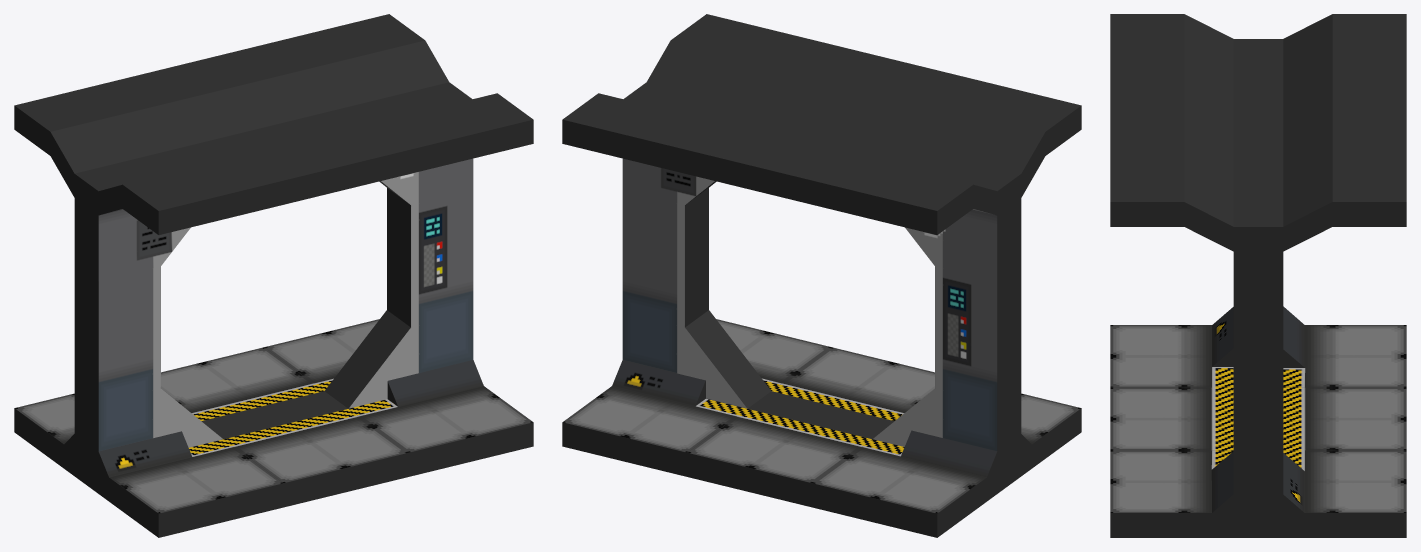
Rendered from ShipWallDoor.obj.
3 views of the same model, side by side, from view 1: azimuth 30°, elevation 25°; view 2: azimuth 150°, elevation 25°; view 3: azimuth 270°, elevation 25° (orthographic). The views are drawn at different scales.
Visible parts, largest first — view 1: ShipWall; view 2: ShipWall; view 3: ShipWall.
Part boxes in pixels (<box>): ShipWall: <box>14,14,533,537</box>; ShipWall: <box>562,14,1081,537</box>; ShipWall: <box>1110,14,1406,537</box>.
Bounding box in the file's own units: 3 × 2.5 × 2.
1 material, 1 textured.
